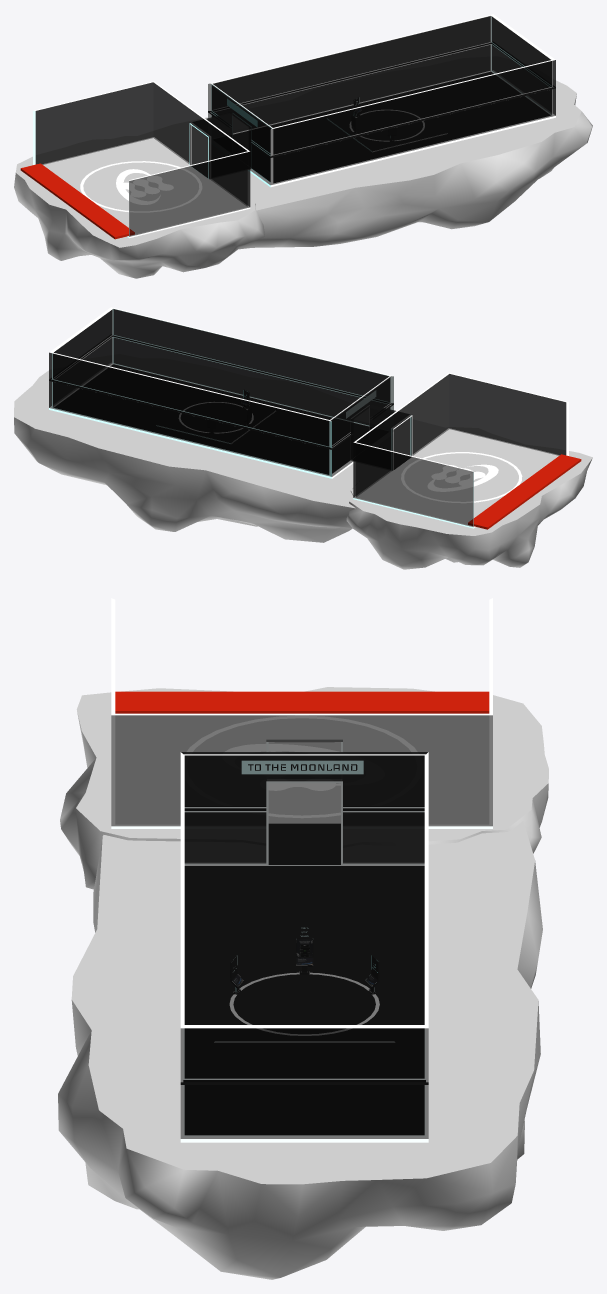
File: Entracne.fbx
The picture shows the model from 3 angles, top to bottom: view 1: azimuth 30°, elevation 25°; view 2: azimuth 150°, elevation 25°; view 3: azimuth 270°, elevation 25°; orthographic projection. The views are drawn at different scales.
Visible parts, largest first — view 1: Stand.001, cloud.001, Stand, Jump, Logo; view 2: Stand.001, cloud.001, Stand, Jump, Logo; view 3: cloud.001, Stand.001, Stand, Jump, Text, Logo.
Boxes of the visible parts, left/top/right/bottom form: Stand.001: left=189, top=14, right=555, bottom=187; cloud.001: left=14, top=79, right=592, bottom=278; Stand: left=33, top=81, right=250, bottom=238; Jump: left=20, top=163, right=134, bottom=239; Logo: left=116, top=169, right=173, bottom=204; Stand.001: left=49, top=307, right=412, bottom=478; cloud.001: left=14, top=370, right=592, bottom=569; Stand: left=353, top=373, right=568, bottom=528; Jump: left=468, top=454, right=581, bottom=529; Logo: left=427, top=464, right=498, bottom=491; cloud.001: left=58, top=687, right=548, bottom=1279; Stand.001: left=180, top=740, right=428, bottom=1142; Stand: left=111, top=598, right=492, bottom=828; Jump: left=115, top=691, right=489, bottom=713; Text: left=242, top=761, right=363, bottom=773; Logo: left=225, top=744, right=340, bottom=790.
Size of the model in its own units: 2543 by 720 by 1063.
